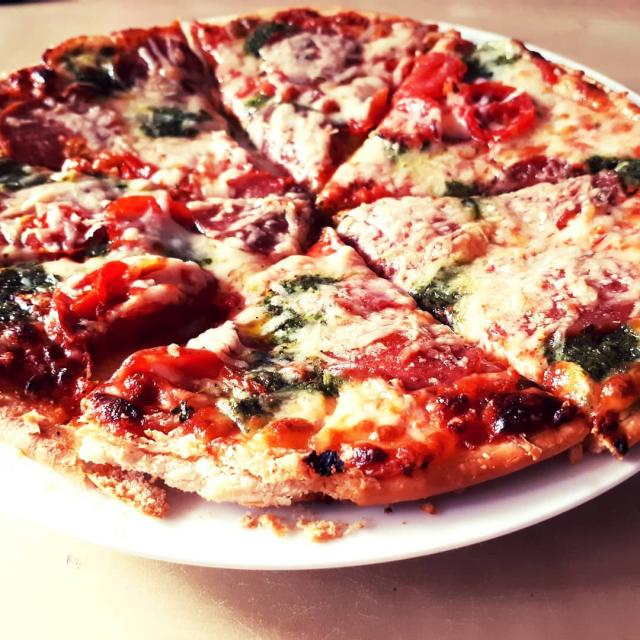basil: (561, 325, 640, 379), (245, 355, 341, 396), (1, 263, 58, 323), (140, 108, 211, 138), (0, 158, 53, 190), (260, 295, 296, 342), (76, 65, 136, 92), (279, 275, 340, 294), (416, 278, 442, 320), (257, 21, 290, 48), (613, 159, 640, 189), (75, 241, 110, 262), (586, 155, 619, 174), (444, 181, 476, 197), (464, 58, 485, 74), (339, 295, 350, 309)
pizza: (0, 9, 640, 515)
tomatoes: (52, 255, 218, 344), (444, 81, 536, 142), (392, 52, 468, 104), (105, 195, 164, 249)
